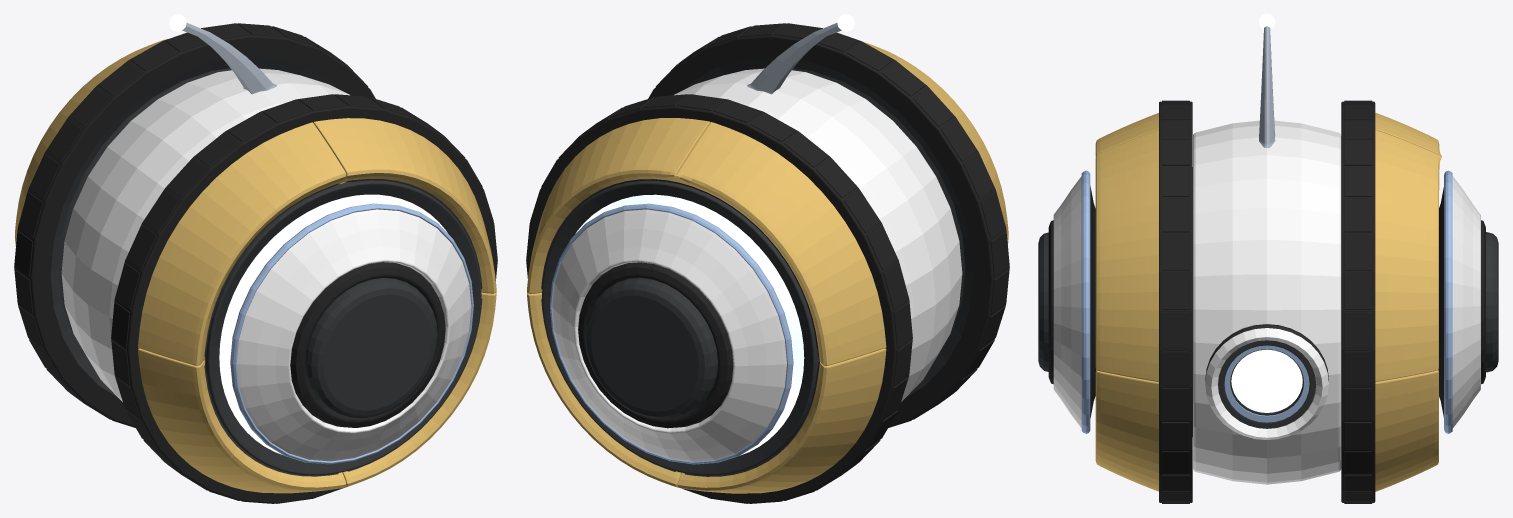
Rendered from Robot_Sphere_01_robot-only.fbx.
3 renders of one model, left to right at view 1: azimuth 30°, elevation 25°; view 2: azimuth 150°, elevation 25°; view 3: azimuth 270°, elevation 25°, orthographic. The views are drawn at different scales.
Visible parts, largest first — view 1: Wheels, Wing-Right, Tire-Cylinder-Left, Body, Tire-Cylinder-Right, Hydraulic-Right, Antenna; view 2: Wheels, Wing-Left, Tire-Cylinder-Right, Body, Tire-Cylinder-Left, Hydraulic-Left, Antenna; view 3: Wheels, Body, Tire-Cylinder-Left, Tire-Cylinder-Right, Wing-Right, Wing-Left, Eye-Socket, Eye-Lense, Hydraulic-Left, Hydraulic-Right, Antenna.
Boxes of the visible parts, x1,y1,x2,y2 form: Wheels: (15, 39, 496, 493); Wing-Right: (230, 203, 473, 464); Tire-Cylinder-Left: (14, 23, 375, 427); Body: (61, 68, 349, 401); Tire-Cylinder-Right: (111, 94, 497, 503); Hydraulic-Right: (305, 278, 437, 418); Antenna: (182, 23, 276, 94); Wheels: (527, 41, 1008, 493); Wing-Left: (549, 203, 793, 464); Tire-Cylinder-Right: (648, 23, 1009, 427); Body: (674, 68, 962, 401); Tire-Cylinder-Left: (526, 94, 912, 503); Hydraulic-Left: (584, 278, 717, 419); Antenna: (747, 23, 841, 94); Wheels: (1095, 112, 1441, 491); Body: (1193, 120, 1341, 484); Tire-Cylinder-Left: (1341, 100, 1375, 503); Tire-Cylinder-Right: (1159, 100, 1192, 503); Wing-Right: (1048, 170, 1096, 433); Wing-Left: (1438, 170, 1485, 433); Eye-Socket: (1205, 323, 1328, 439); Eye-Lense: (1231, 349, 1302, 412); Hydraulic-Left: (1486, 232, 1498, 372); Hydraulic-Right: (1038, 232, 1048, 371); Antenna: (1259, 26, 1275, 147).
Bounding box in the file's own units: 177 × 211 × 202.
